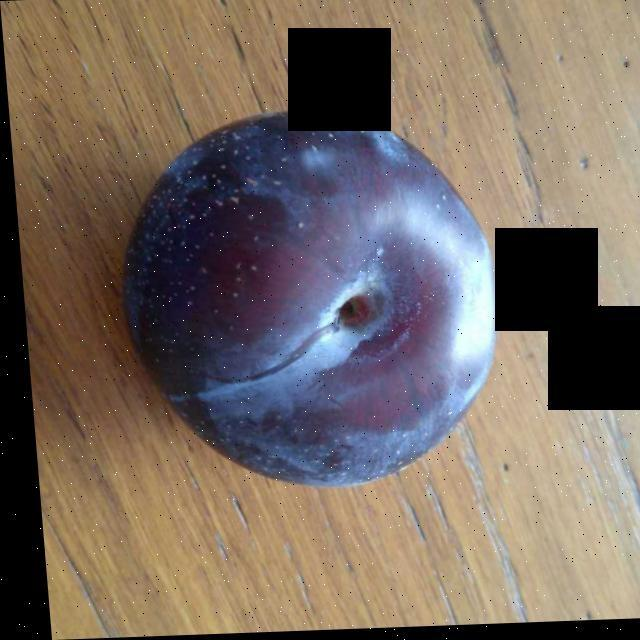plums: (122, 113, 480, 480)
